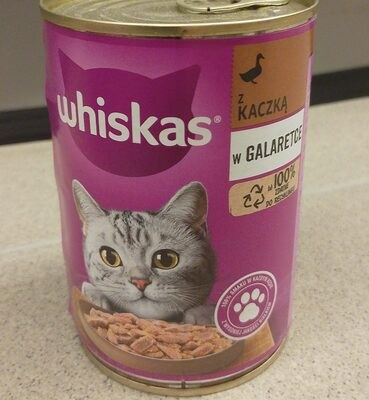Whiskas And 400g: (18, 20, 351, 380)
